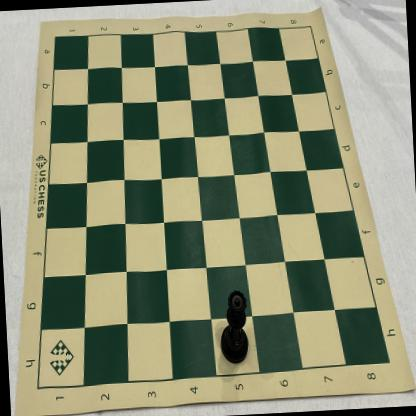queen: (218, 288, 249, 364)
